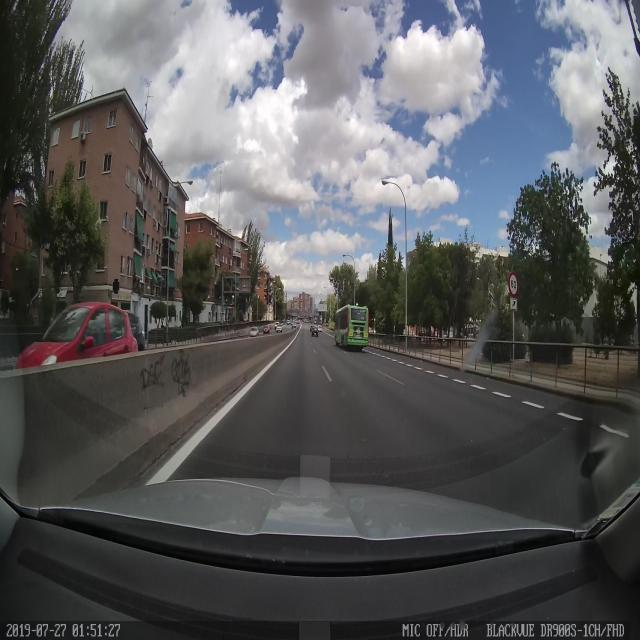car: (15, 302, 146, 369), (248, 324, 260, 337), (310, 324, 319, 338), (262, 324, 270, 335)
